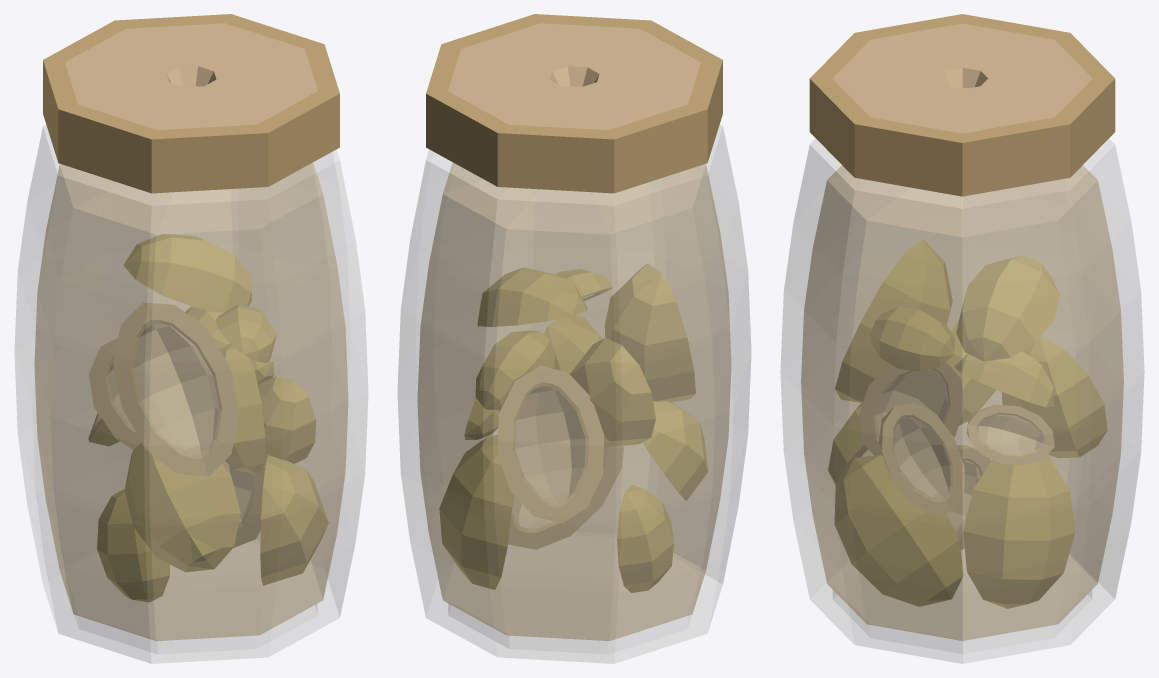
File: Maprang Jar.glb
3 views of the same model, side by side, from view 1: azimuth 30°, elevation 25°; view 2: azimuth 150°, elevation 25°; view 3: azimuth 270°, elevation 25° (orthographic).
Parts seen in each view (by area): view 1: Mapang Jar; view 2: Mapang Jar; view 3: Mapang Jar.
Part boxes in pixels (x1,y1,x2,y2): Mapang Jar: (14,14,368,663); Mapang Jar: (397,14,751,663); Mapang Jar: (780,14,1144,663).
Size of the model in its own units: 0.9491 by 1.5 by 0.9491.
